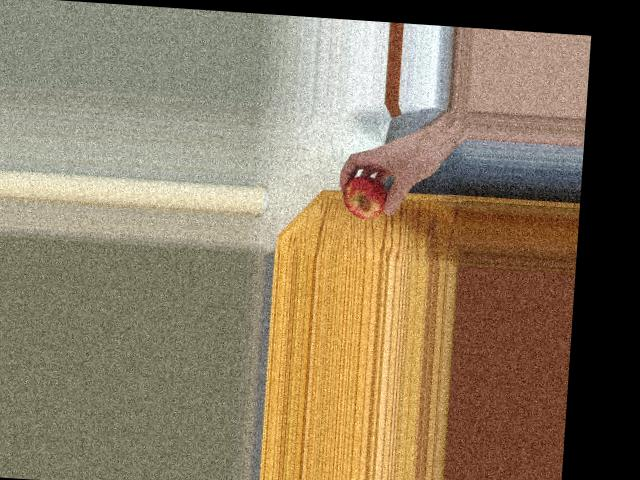apple: (339, 174, 394, 220)
